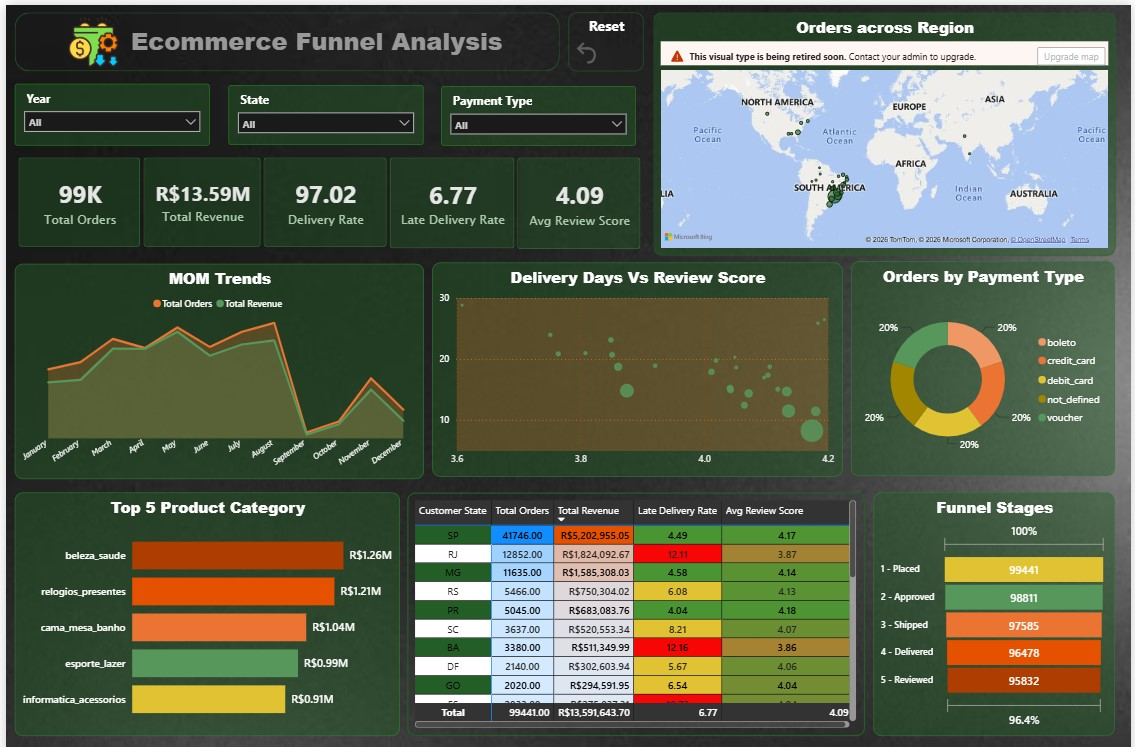

What the dashboard file says about the page in this screenshot:
{"tool":"powerbi","page":{"name":"Page 1","canvas":[1500,1300],"ordinal":0},"visuals":[{"type":"slicer","fields":{"Values":["orders.order_purchase_timestamp.Variation.Date Hierarchy.Year"]},"box":[12,105,260,82],"z":0},{"type":"slicer","fields":{"Values":["customers.customer_state"]},"box":[297,107,260,80],"z":1000},{"type":"slicer","fields":{"Values":["order_payments.payment_type"]},"box":[580,108,260,79],"z":2000},{"type":"cardVisual","fields":{"Data":["Measure Table (.Avg Review Score"]},"box":[665,186.7,198.3,156.7],"z":3000},{"type":"cardVisual","fields":{"Data":["Measure Table.Total Orders"]},"box":[0,186.7,196.7,153.3],"z":4000},{"type":"cardVisual","fields":{"Data":["Measure Table.Delivery Rate"]},"box":[326.7,186.7,198.3,153.3],"z":5000},{"type":"cardVisual","fields":{"Data":["Measure Table.Late Delivery Rate"]},"box":[495,186.7,200,155],"z":6000},{"type":"cardVisual","fields":{"Data":["Measure Table (.Total Revenue"]},"box":[166.7,186.7,190,153.3],"z":7000},{"type":"lineChart","title":"MOM Trends","fields":{"Category":["orders.order_purchase_timestamp.Variation.Date Hierarchy.Month"],"Y":["Measure Table (.Total Orders"],"Y2":["Measure Table (.Total Revenue"]},"box":[11.4,344.3,545.7,287.1],"z":8000},{"type":"donutChart","title":" Orders by Payment Type","fields":{"Category":["order_payments.payment_type"],"Y":["Measure Table (.Total Orders"]},"box":[1127.1,341.4,351.4,292],"z":10000},{"type":"clusteredBarChart","title":"Top 5 Product Category","fields":{"Category":["products.product_category_name"],"Y":["Measure Table (.Total Revenue"]},"box":[11.7,650,513.3,325],"z":11000},{"type":"map","title":"Orders across Region","fields":{"Category":["customers.customer_state"],"Size":["Measure Table.Total Orders"]},"box":[863,10,616,324],"z":12000},{"type":"scatterChart","title":"Delivery Days Vs Review Score","fields":{"Category":["customers.customer_state"],"Size":["Measure Table.Total Orders"],"X":["Measure Table.Avg Review Score"],"Y":["Measure Table.Average of days_deliver"]},"box":[568.6,342.9,547.1,285.7],"z":13000},{"type":"pivotTable","fields":{"Rows":["customers.customer_state"],"Values":["Measure Table.Total Orders","Measure Table.Total Revenue","Measure Table.Late Delivery Rate","Measure Table.Avg Review Score"]},"box":[535,650,610,325],"z":14000},{"type":"funnel","title":"Funnel Stages","fields":{"Category":["FunnelStages.Stage"],"Y":["FunnelStages.Funnel Orders"]},"box":[1156.7,650,321.7,325],"z":15000},{"type":"shape","box":[11.7,10,726.7,78.3],"z":16000},{"type":"actionButton","title":"Reset","box":[750,10,100,78.3],"z":17000},{"type":"textbox","box":[161.4,20,528.6,68.6],"z":18000},{"type":"image","box":[34.3,10,162.9,78.6],"z":19000}]}

Visuals, with their boxes on the page's 1500x1300 design canvas (x1, y1, x2, y2). These are canvas units, not pixel positions in the 1135x747 screenshot, which may show the page scaled, cropped or inside an application window:
slicer - orders.order_purchase_timestamp.Variation.Date Hierarchy.Year: bbox=[12, 105, 272, 187]
slicer - customers.customer_state: bbox=[297, 107, 557, 187]
slicer - order_payments.payment_type: bbox=[580, 108, 840, 187]
cardVisual - Measure Table (.Avg Review Score: bbox=[665, 187, 863, 343]
cardVisual - Measure Table.Total Orders: bbox=[0, 187, 197, 340]
cardVisual - Measure Table.Delivery Rate: bbox=[327, 187, 525, 340]
cardVisual - Measure Table.Late Delivery Rate: bbox=[495, 187, 695, 342]
cardVisual - Measure Table (.Total Revenue: bbox=[167, 187, 357, 340]
"MOM Trends" lineChart: bbox=[11, 344, 557, 631]
" Orders by Payment Type" donutChart: bbox=[1127, 341, 1478, 633]
"Top 5 Product Category" clusteredBarChart: bbox=[12, 650, 525, 975]
"Orders across Region" map: bbox=[863, 10, 1479, 334]
"Delivery Days Vs Review Score" scatterChart: bbox=[569, 343, 1116, 629]
pivotTable - customers.customer_state x Measure Table.Total Orders: bbox=[535, 650, 1145, 975]
"Funnel Stages" funnel: bbox=[1157, 650, 1478, 975]
shape: bbox=[12, 10, 738, 88]
"Reset" actionButton: bbox=[750, 10, 850, 88]
textbox: bbox=[161, 20, 690, 89]
image: bbox=[34, 10, 197, 89]
